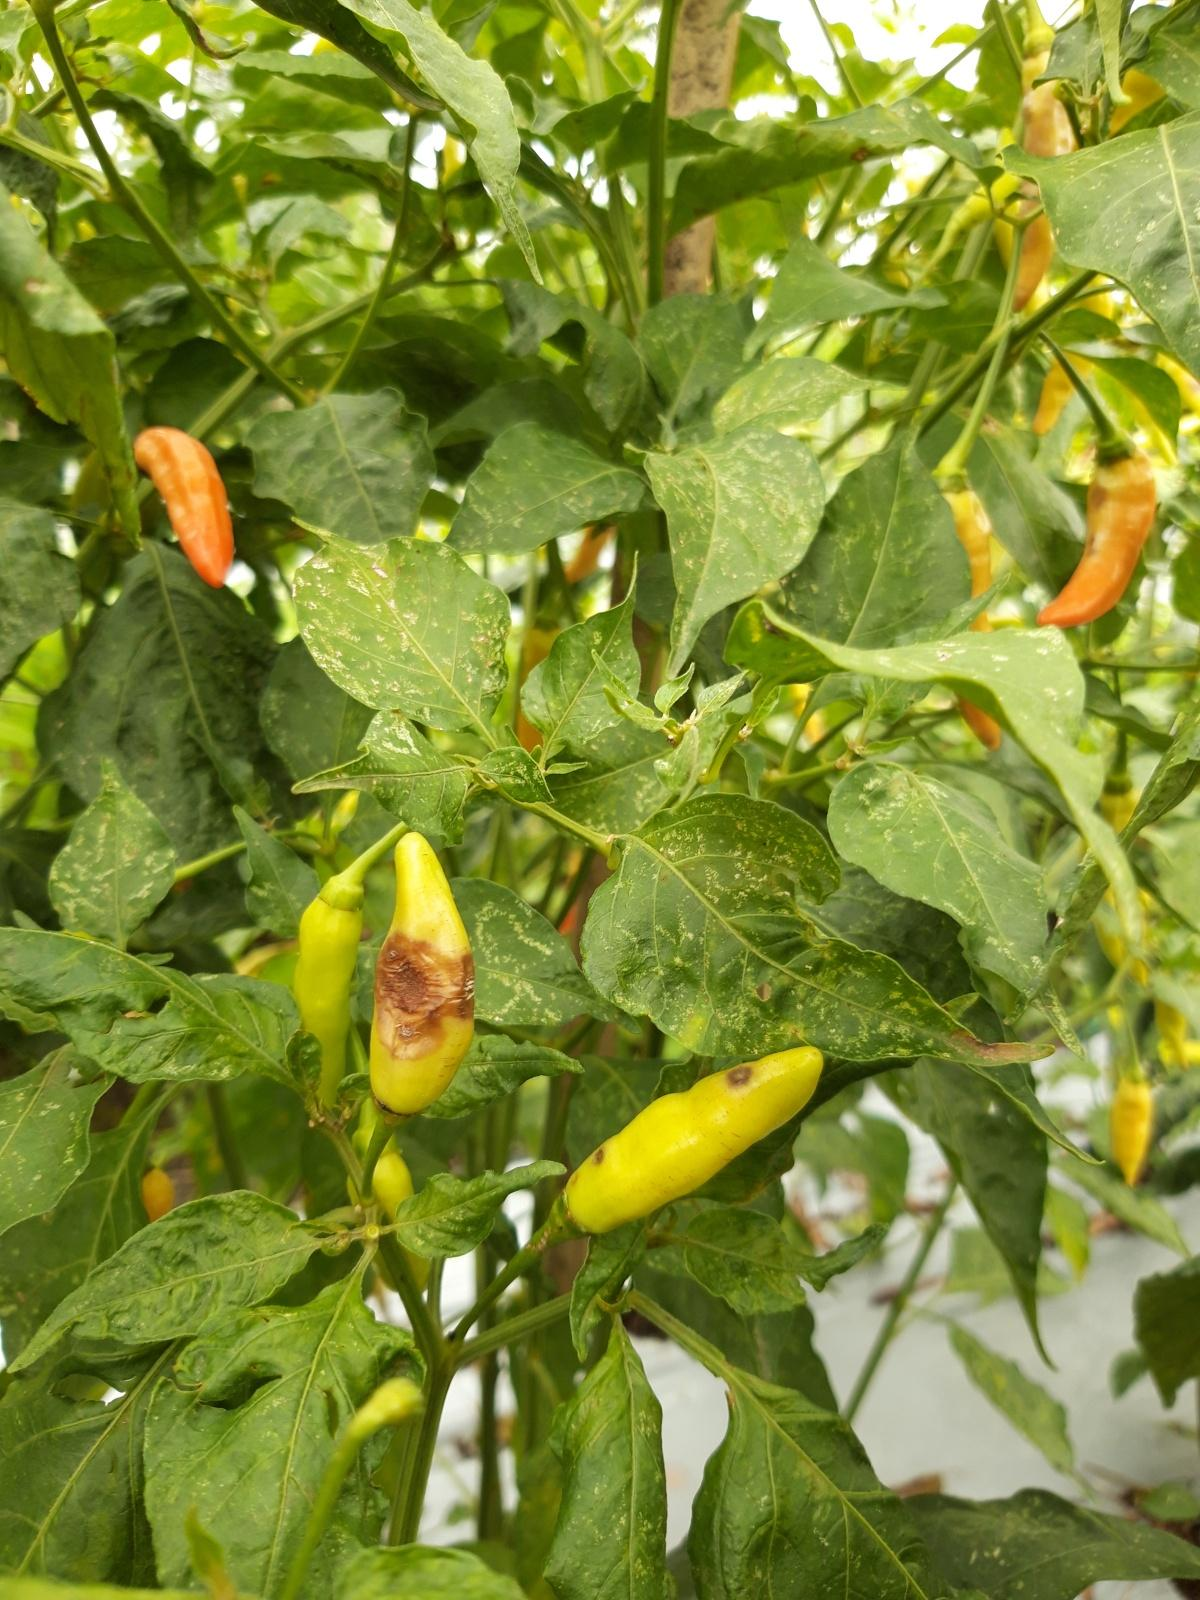cabai_normal: (294, 877, 364, 1110), (134, 425, 232, 590), (1111, 1066, 1150, 1186)
lalat_buah: (550, 1048, 826, 1240), (366, 831, 476, 1114), (1037, 438, 1156, 629)
